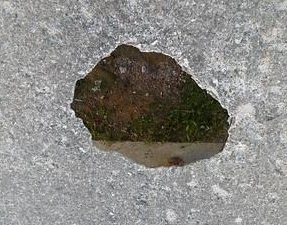Spalling: (69, 43, 231, 169)
